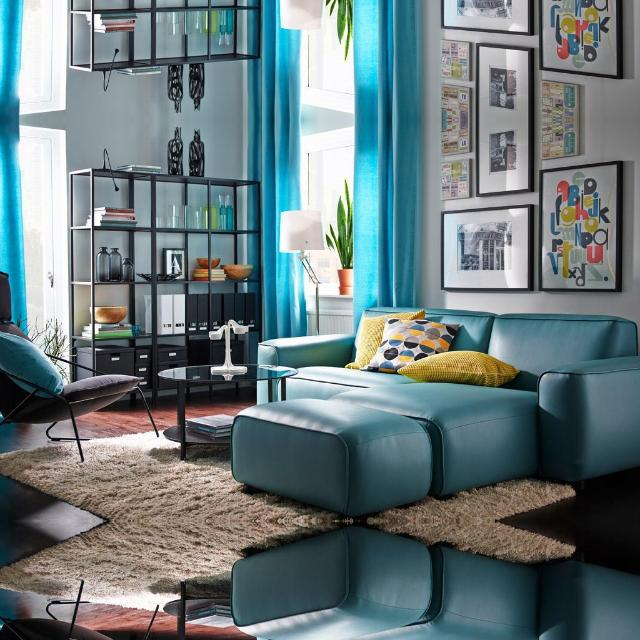armchair: (0, 272, 159, 461), (0, 581, 113, 640)
couch: (231, 308, 640, 515), (231, 527, 640, 640)
curtain: (354, 119, 422, 328), (248, 119, 306, 339), (354, 0, 422, 119), (248, 0, 301, 119), (0, 119, 28, 326), (0, 0, 24, 119)
lamp: (280, 210, 324, 333), (280, 0, 323, 28)
pillow: (364, 318, 459, 372), (345, 310, 425, 369), (399, 350, 520, 386)
plant: (325, 179, 352, 294), (326, 179, 352, 268), (325, 0, 352, 59), (326, 0, 352, 59)
rug: (0, 432, 345, 520), (0, 522, 345, 610), (368, 478, 575, 520), (368, 522, 575, 564)
shelf: (69, 168, 262, 401), (69, 0, 261, 70)
table: (159, 364, 298, 460), (164, 582, 230, 640)
vase: (96, 246, 122, 281), (168, 125, 184, 174), (168, 64, 184, 113), (189, 128, 204, 176), (189, 62, 204, 110), (95, 246, 110, 282), (220, 264, 253, 278), (338, 268, 354, 294), (121, 256, 135, 281)
wall-art: (540, 160, 622, 290), (540, 0, 622, 78), (476, 119, 534, 195), (476, 43, 534, 119), (540, 119, 579, 159), (540, 79, 579, 119), (441, 158, 471, 198), (441, 40, 471, 80), (441, 119, 470, 155), (441, 83, 470, 119)
